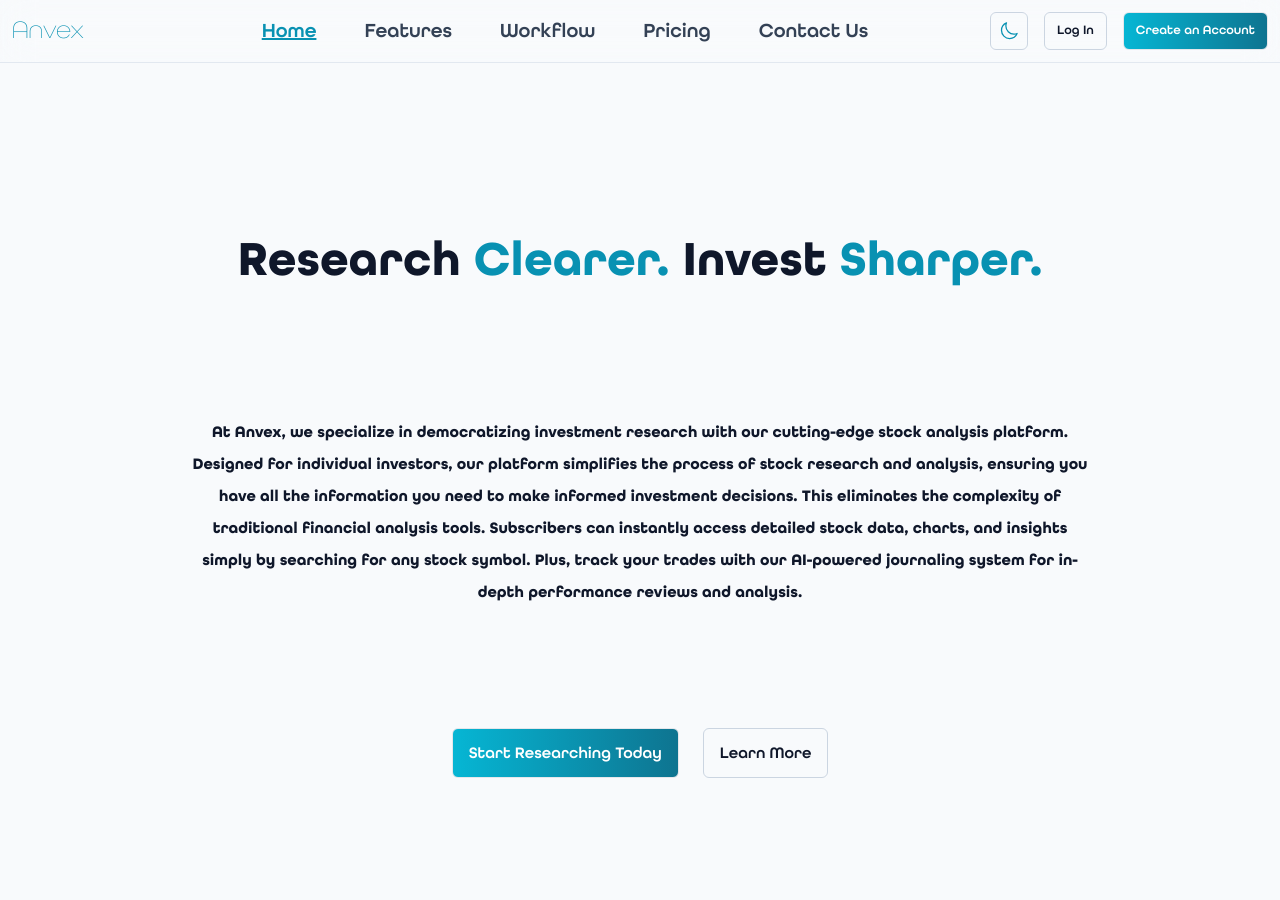
Test: the dark-mode switcher › names what pressing it does, so the change is announced
What coordinates should you click on to do the following:
click the button named "Switch to dark theme"
I would click on:
 (1009, 31)
Its box is [990,12,1028,50].
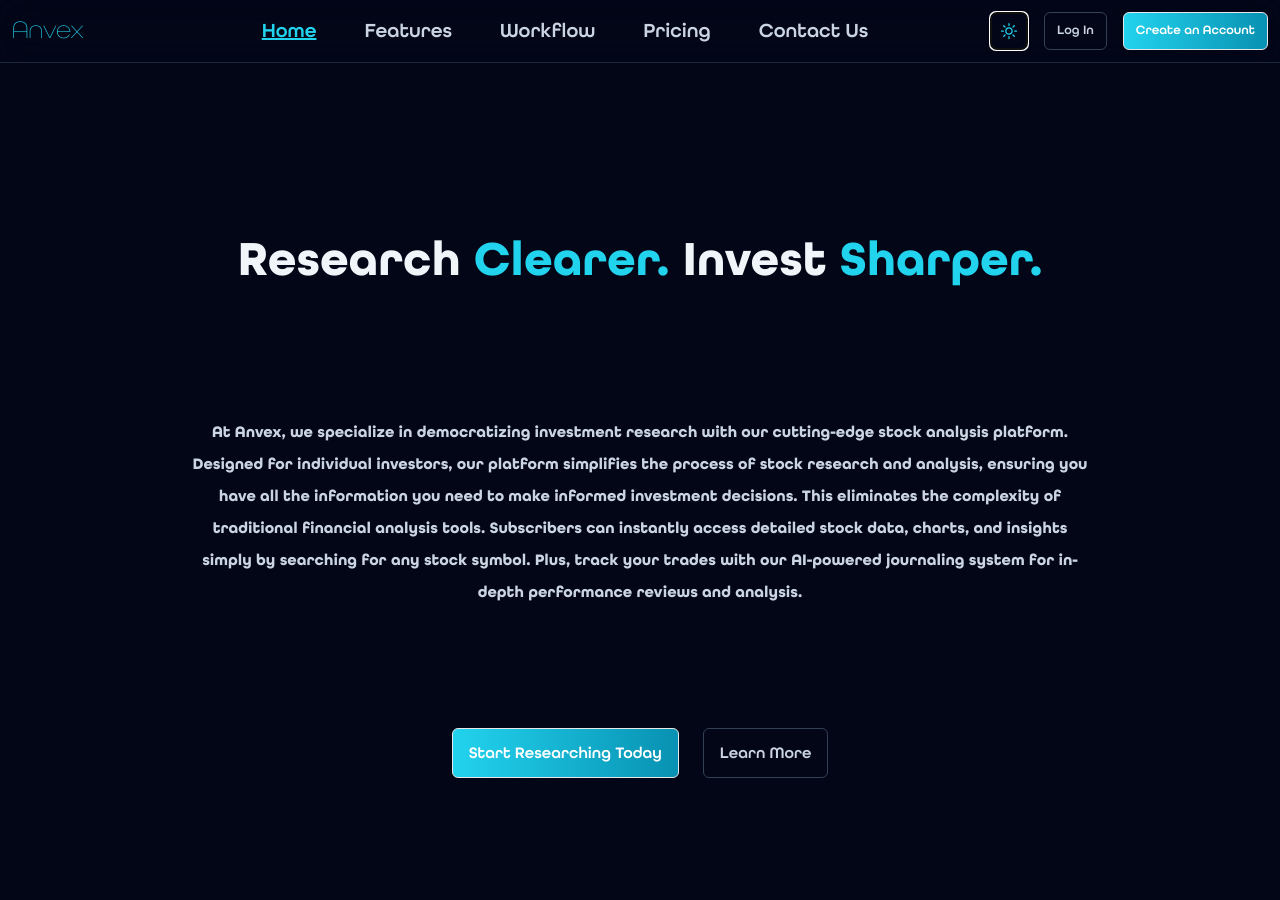
Expected: the button named "Switch to light theme" is shown, [990,12,1028,50]
